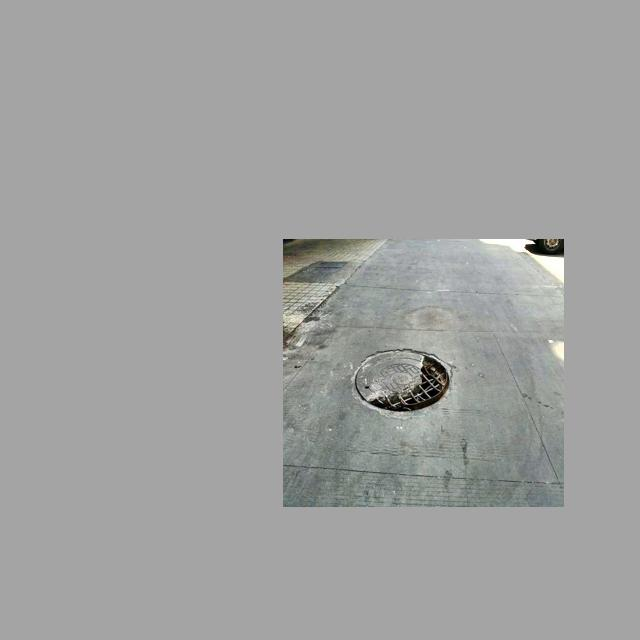broke: (337, 334, 469, 431)
